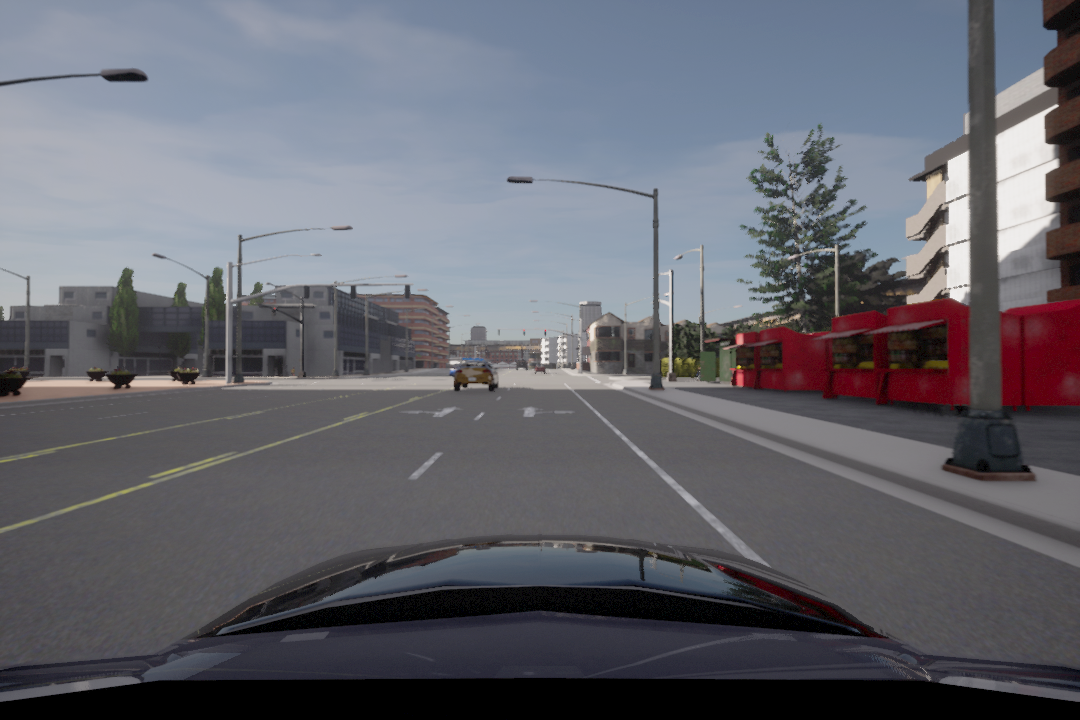RoadSign_forward_left: (401, 403, 465, 423)
RoadSign_forward_right: (514, 402, 579, 424)
